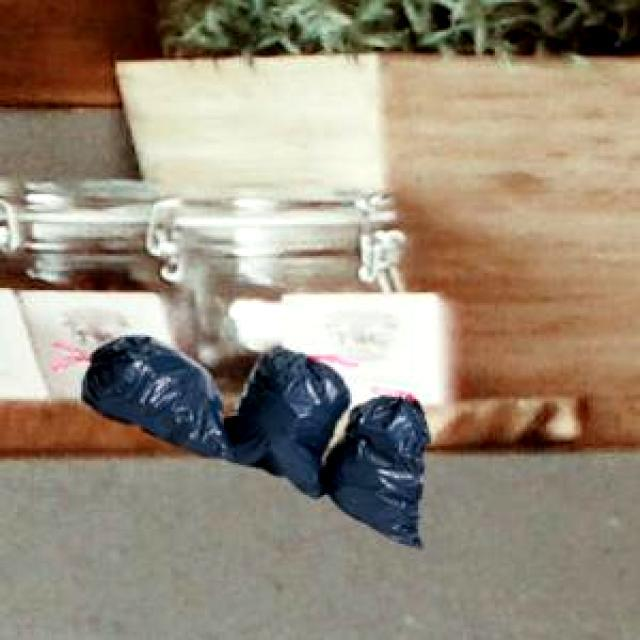Garbage_Bag: (78, 334, 428, 545)
